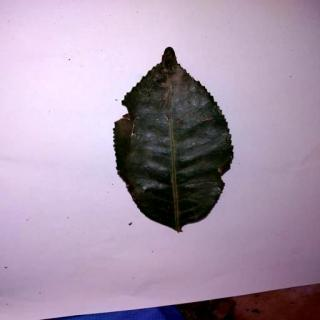Anthracnose: (114, 45, 236, 236)
